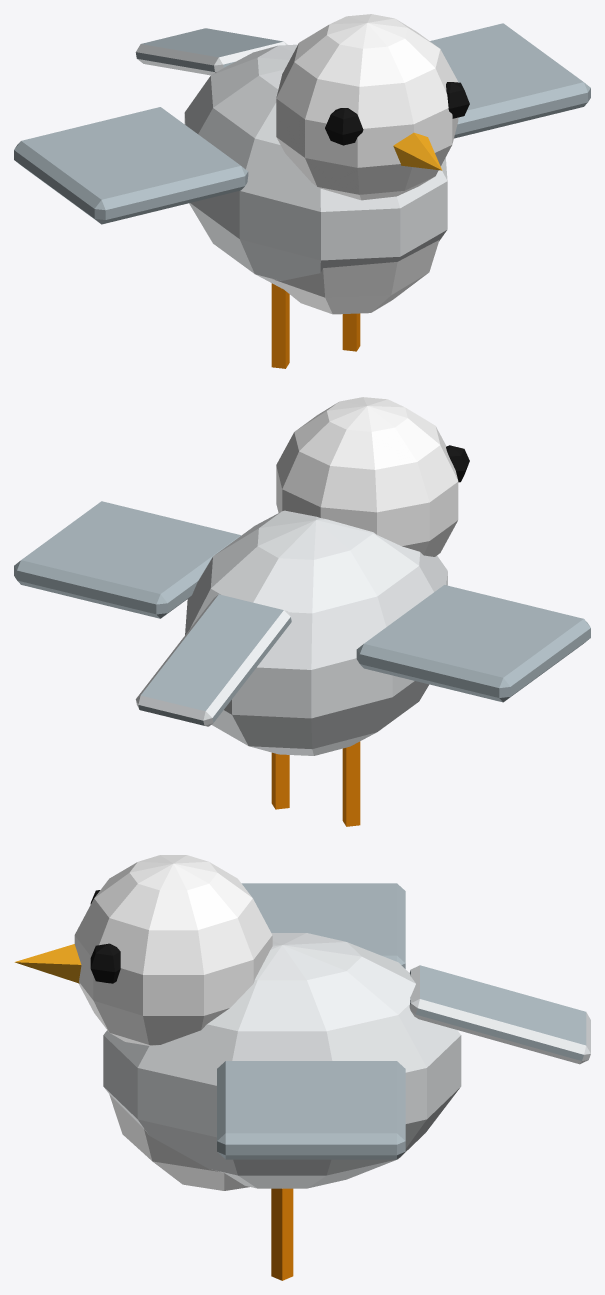
Rendered from moewe-klein.glb.
3 renders of one model, top to bottom at view 1: azimuth 30°, elevation 25°; view 2: azimuth 150°, elevation 25°; view 3: azimuth 270°, elevation 25°, orthographic. The views are drawn at different scales.
Parts seen in each view (by area): view 1: body-m, head-m, wing-0-m, wing-1-m, feet; view 2: body-m, head-m, wing-0-m, wing-1-m, feet; view 3: body-m, head-m, wing-1-m, wing-0-m, feet.
Part boxes in pixels (left/top/right/bottom): body-m: left=135, top=28, right=447, bottom=314; head-m: left=276, top=14, right=469, bottom=200; wing-0-m: left=14, top=107, right=248, bottom=224; wing-1-m: left=430, top=23, right=590, bottom=138; feet: left=271, top=283, right=360, bottom=368; body-m: left=135, top=510, right=447, bottom=755; head-m: left=276, top=397, right=469, bottom=556; wing-0-m: left=356, top=585, right=590, bottom=702; wing-1-m: left=14, top=501, right=240, bottom=618; feet: left=271, top=741, right=360, bottom=826; body-m: left=103, top=933, right=590, bottom=1190; head-m: left=14, top=855, right=272, bottom=1045; wing-1-m: left=217, top=1061, right=405, bottom=1159; wing-0-m: left=241, top=883, right=405, bottom=968; feet: left=271, top=1188, right=293, bottom=1280.
Size of the model in its own units: 0.84 by 0.6 by 0.7957.
